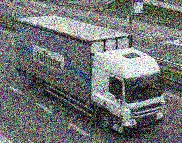truck: (13, 15, 168, 135)
